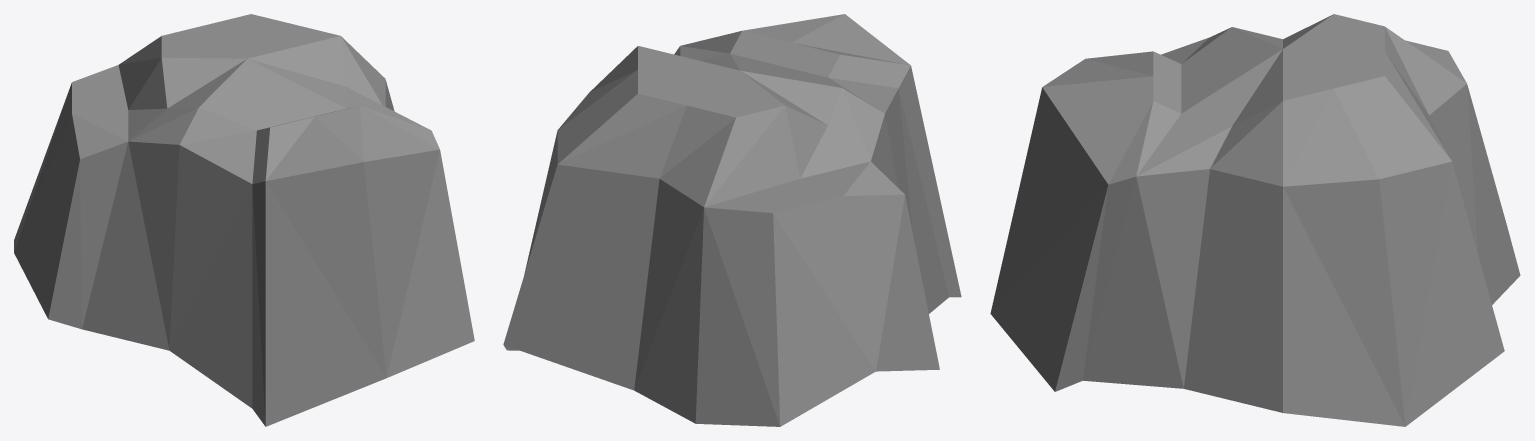
File: Rock.FBX
3 renders of one model, left to right at view 1: azimuth 30°, elevation 25°; view 2: azimuth 150°, elevation 25°; view 3: azimuth 270°, elevation 25°, orthographic. The views are drawn at different scales.
Parts seen in each view (by area): view 1: Cylinder004; view 2: Cylinder004; view 3: Cylinder004.
Part boxes in pixels (x1=…): Cylinder004: x1=14, y1=14, x2=474, y2=426; Cylinder004: x1=503, y1=14, x2=961, y2=426; Cylinder004: x1=990, y1=14, x2=1520, y2=426.
Bounding box in the file's own units: 432 × 292 × 465.
1 material, 1 textured.
